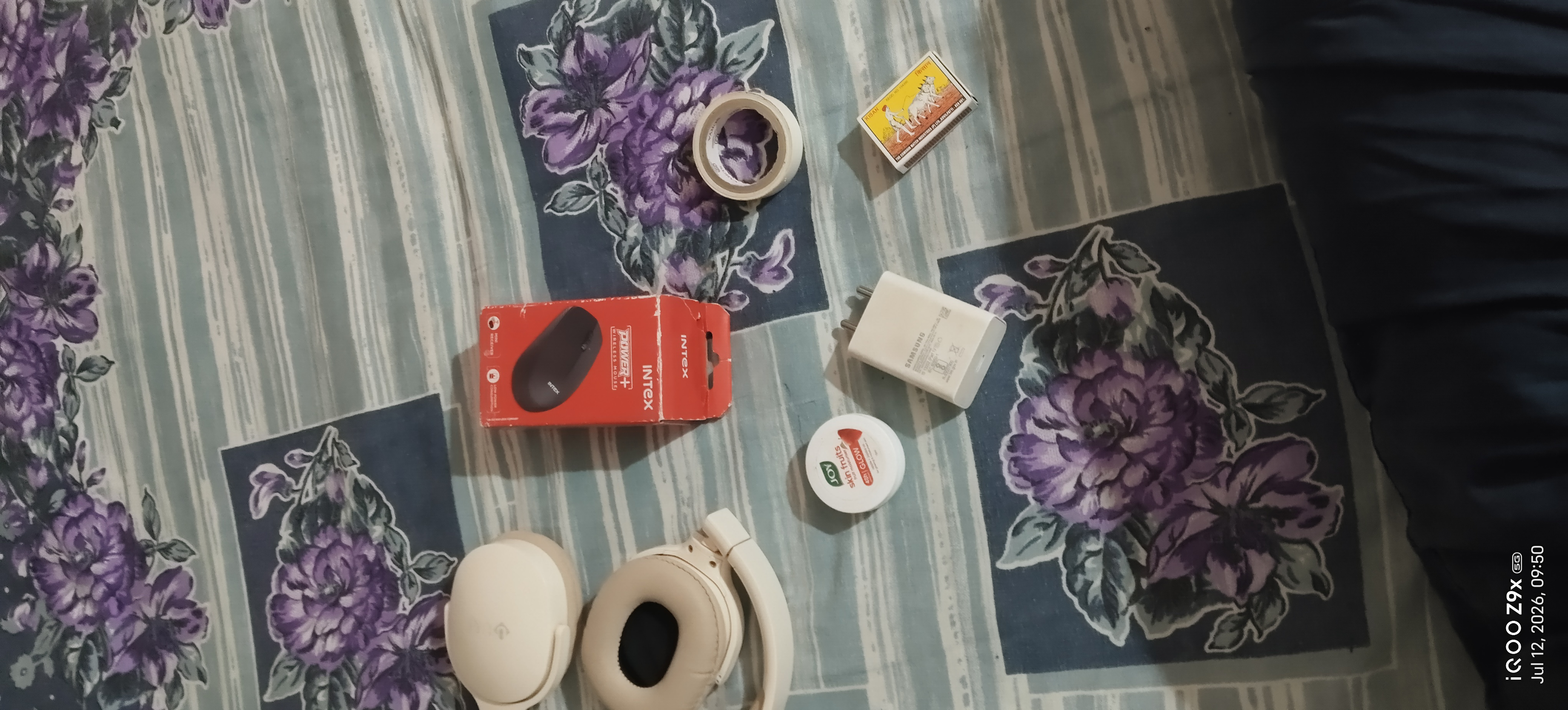charger: (832, 258, 1009, 418)
matchbox: (846, 45, 981, 182)
tape_roll: (682, 89, 811, 207)
